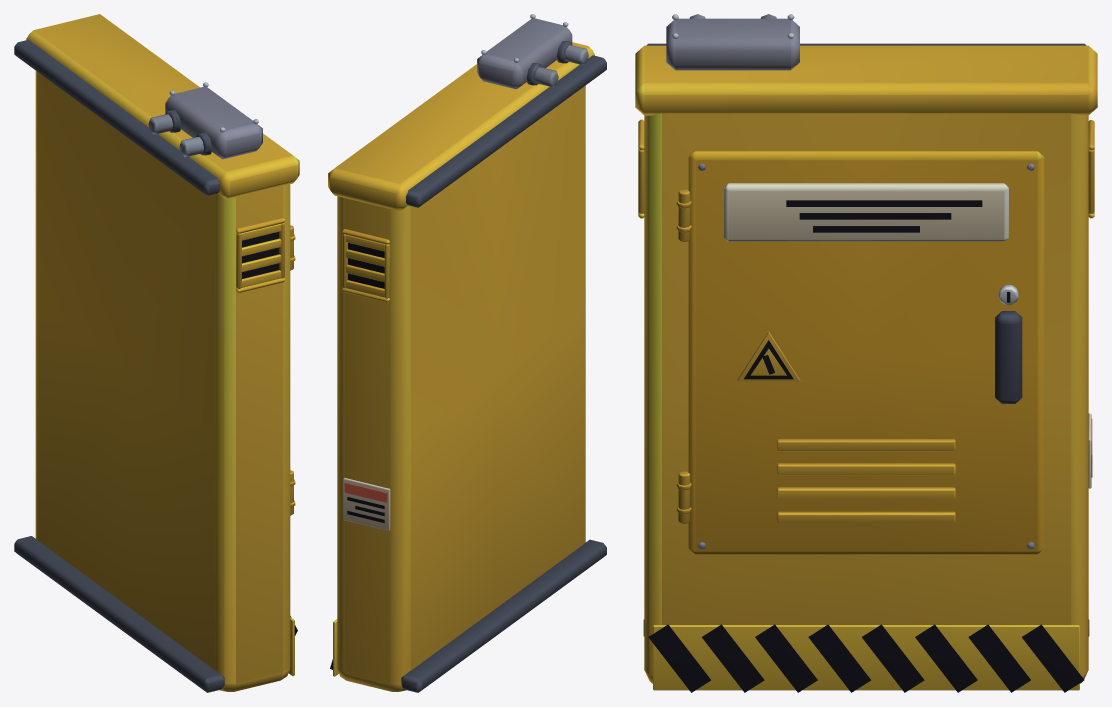
File: SM_Station_Breaker.fbx
3 renders of one model, left to right at view 1: azimuth 30°, elevation 25°; view 2: azimuth 150°, elevation 25°; view 3: azimuth 270°, elevation 25°, orthographic. The views are drawn at different scales.
Visible parts, largest first — view 1: SM_Station_Breaker; view 2: SM_Station_Breaker; view 3: SM_Station_Breaker.
Boxes of the visible parts, x1,y1,x2,y2 form: SM_Station_Breaker: (14, 14, 299, 692); SM_Station_Breaker: (328, 14, 606, 692); SM_Station_Breaker: (635, 14, 1097, 692).
Bounding box in the file's own units: 33.22 × 160 × 104.
